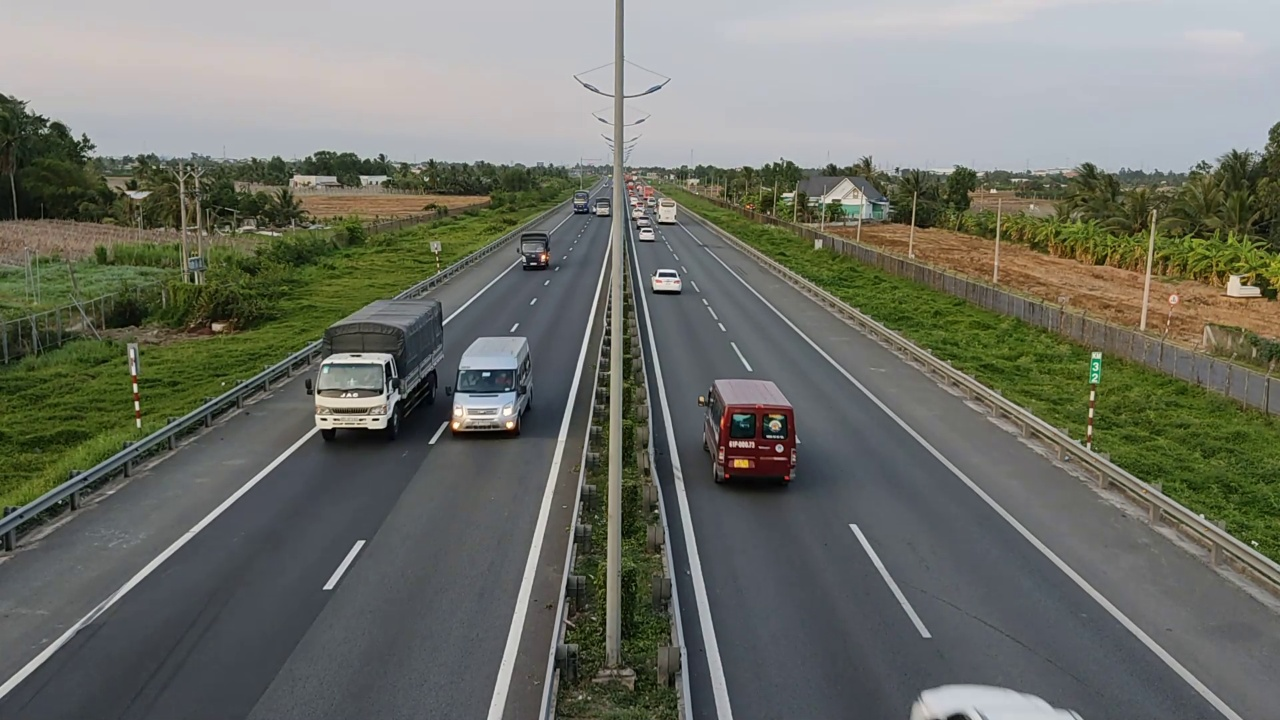car: (694, 371, 800, 490), (448, 330, 536, 442), (650, 268, 683, 293)
truck: (312, 296, 445, 442)
